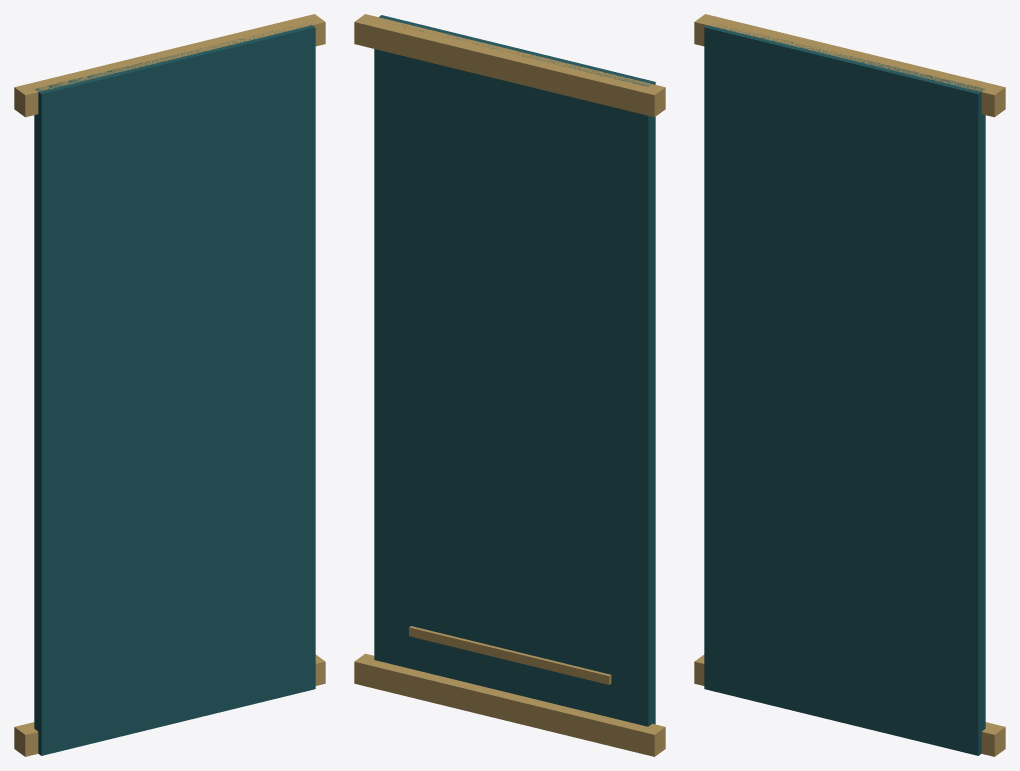
The model's file is VIC_A11_MUSEUM_BANNER_Roblox.fbx.
3 renders of one model, left to right at view 1: azimuth 30°, elevation 25°; view 2: azimuth 150°, elevation 25°; view 3: azimuth 330°, elevation 25°, orthographic.
Visible parts, largest first — view 1: VIC_A11_MUSEUM_BANNER__Teal, VIC_A11_MUSEUM_BANNER__Brass; view 2: VIC_A11_MUSEUM_BANNER__Teal, VIC_A11_MUSEUM_BANNER__Brass; view 3: VIC_A11_MUSEUM_BANNER__Teal, VIC_A11_MUSEUM_BANNER__Brass.
Boxes of the visible parts, bbox=[...] form: VIC_A11_MUSEUM_BANNER__Teal: bbox=[34, 23, 315, 755]; VIC_A11_MUSEUM_BANNER__Brass: bbox=[14, 14, 325, 756]; VIC_A11_MUSEUM_BANNER__Teal: bbox=[374, 15, 655, 726]; VIC_A11_MUSEUM_BANNER__Brass: bbox=[354, 14, 665, 756]; VIC_A11_MUSEUM_BANNER__Teal: bbox=[704, 24, 985, 755]; VIC_A11_MUSEUM_BANNER__Brass: bbox=[694, 14, 1005, 756].
Bounding box in the file's own units: 2.85 × 6 × 0.23.
